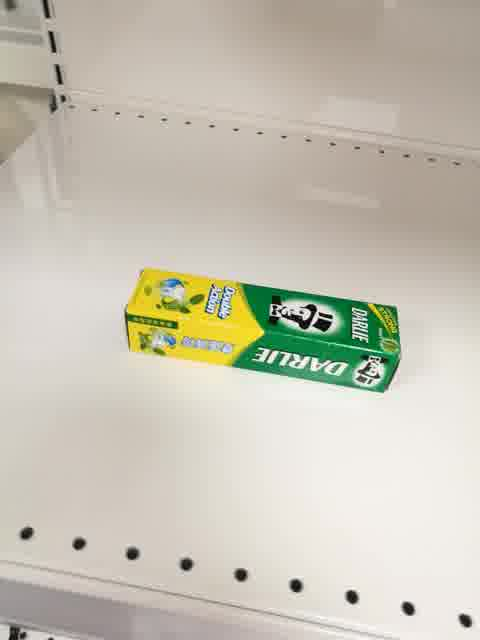toothpaste: (124, 267, 401, 394)
